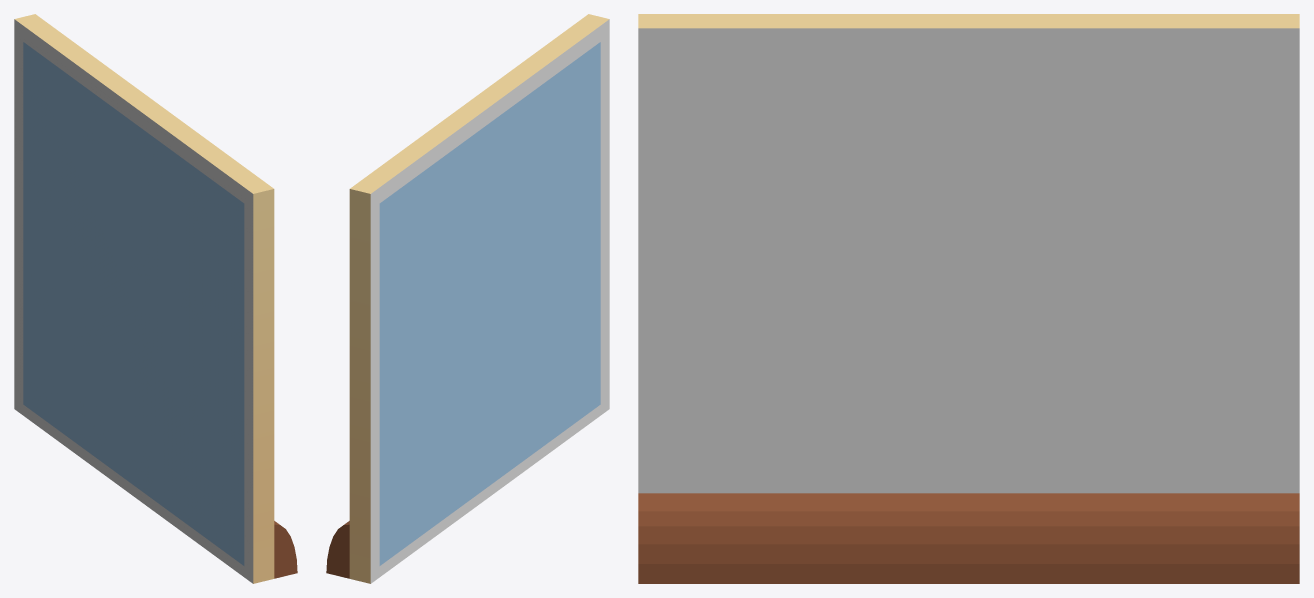
Rendered from Wall-A.fbx.
3 renders of one model, left to right at view 1: azimuth 30°, elevation 25°; view 2: azimuth 150°, elevation 25°; view 3: azimuth 270°, elevation 25°, orthographic. The views are drawn at different scales.
Parts seen in each view (by area): view 1: Wall A; view 2: Wall A; view 3: Wall A.
Boxes of the visible parts, x1=… form: Wall A: x1=14, y1=14, x2=297, y2=583; Wall A: x1=326, y1=14, x2=609, y2=583; Wall A: x1=638, y1=14, x2=1299, y2=583.
Size of the model in its own units: 85.83 by 721 by 800.
